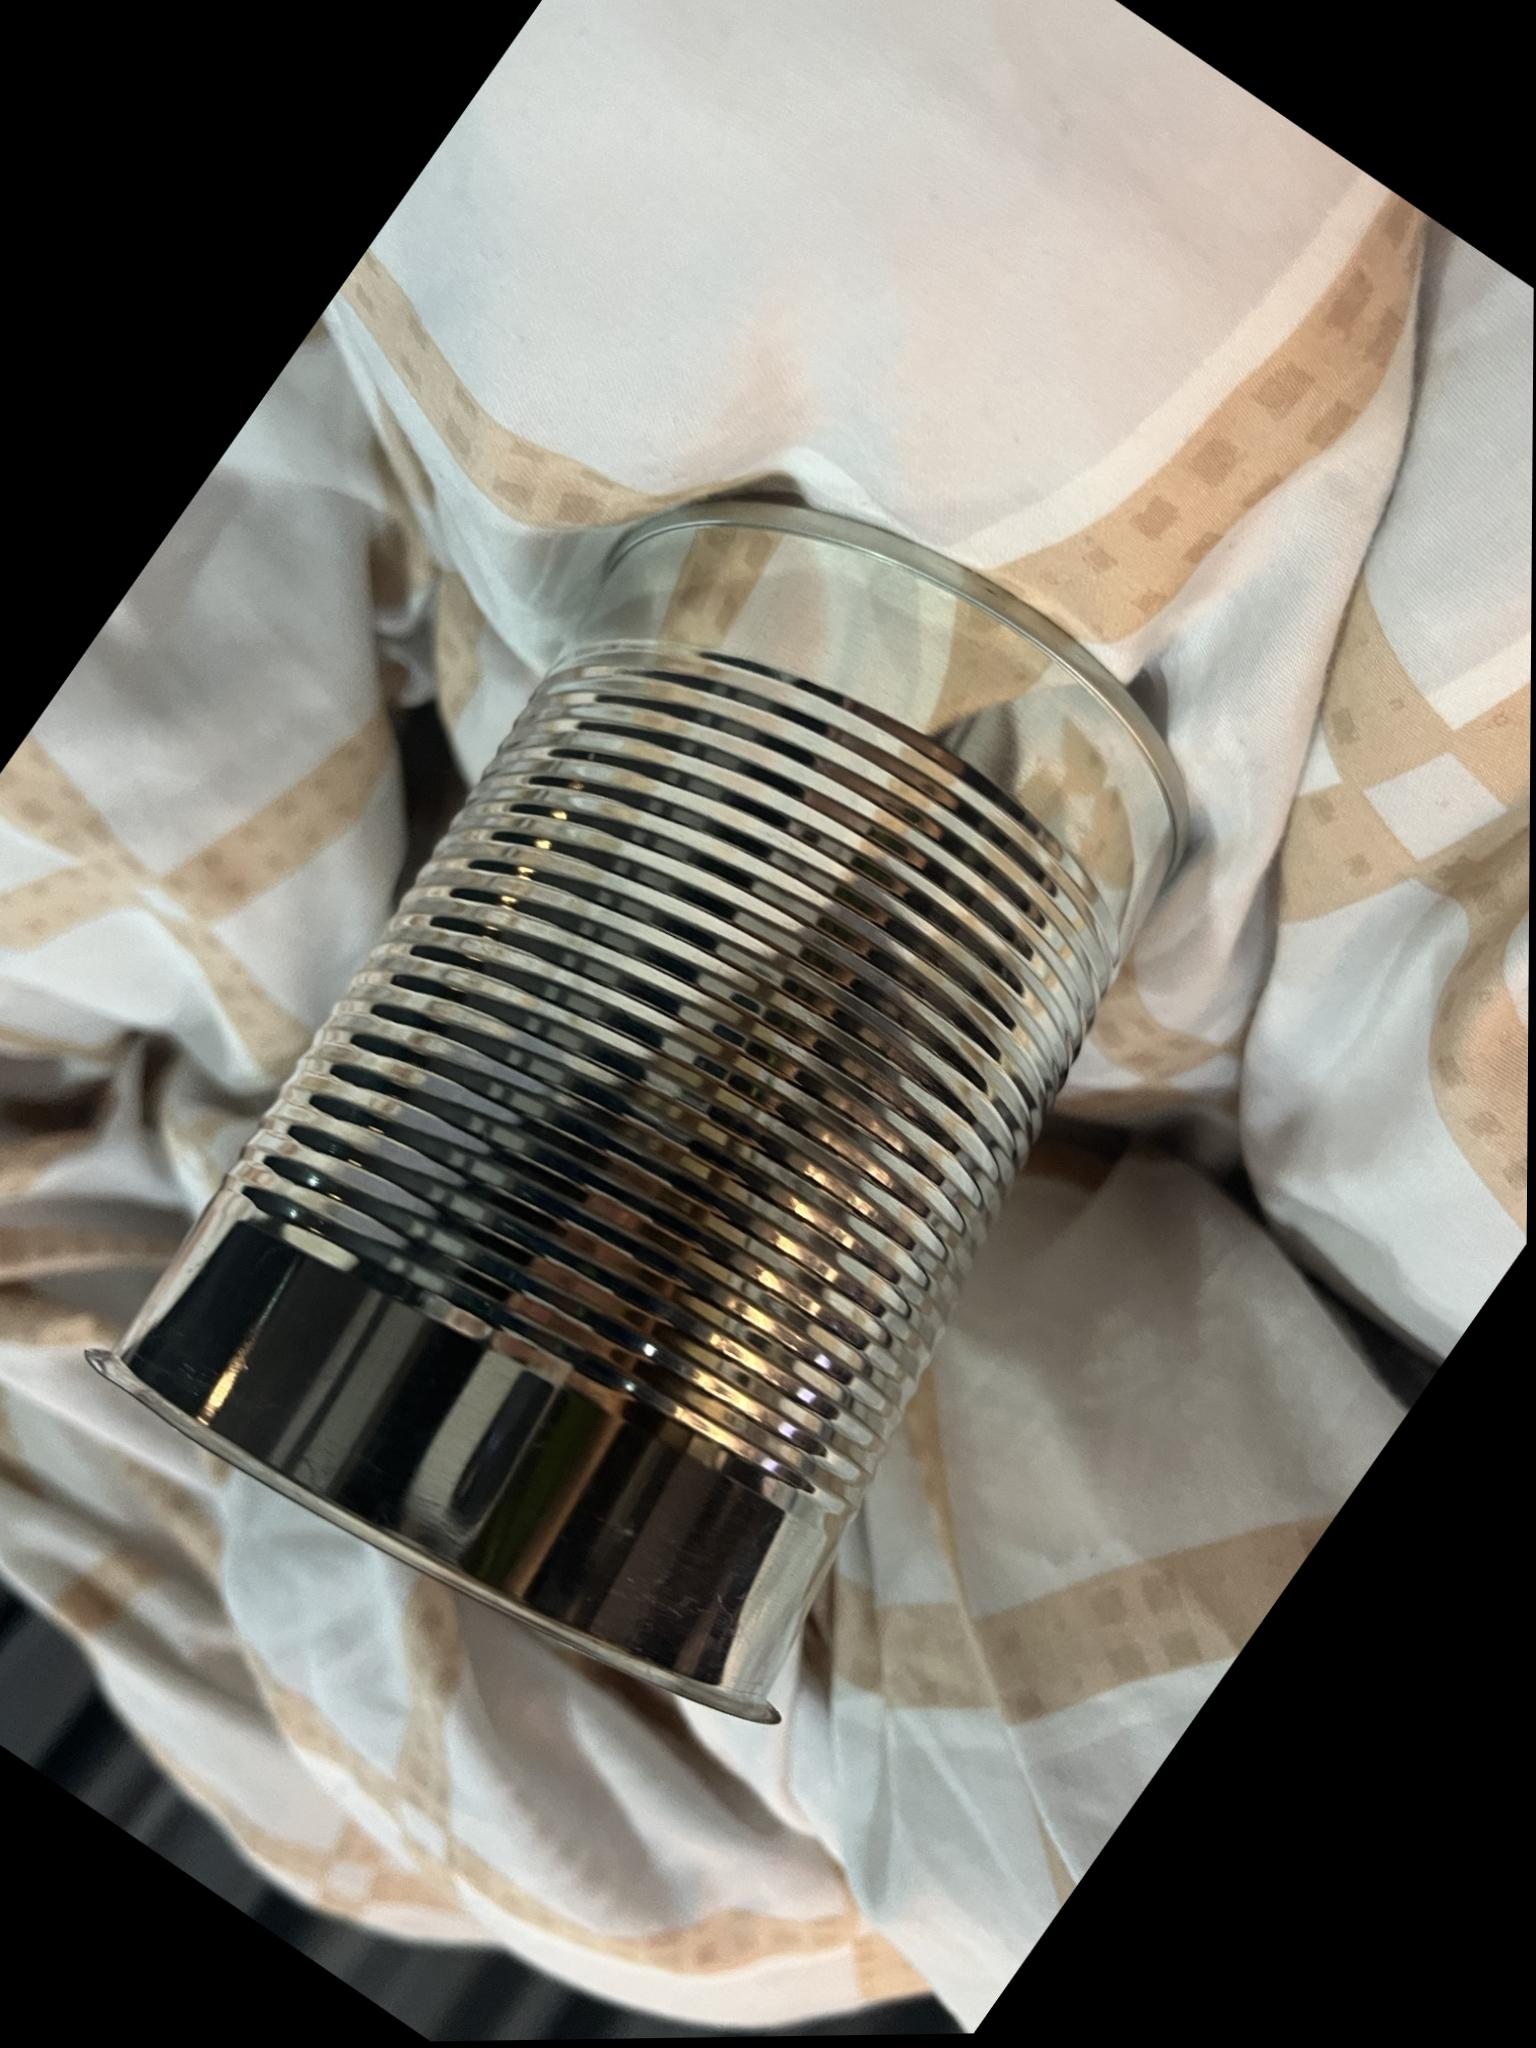metal: (13, 352, 1370, 1832)
